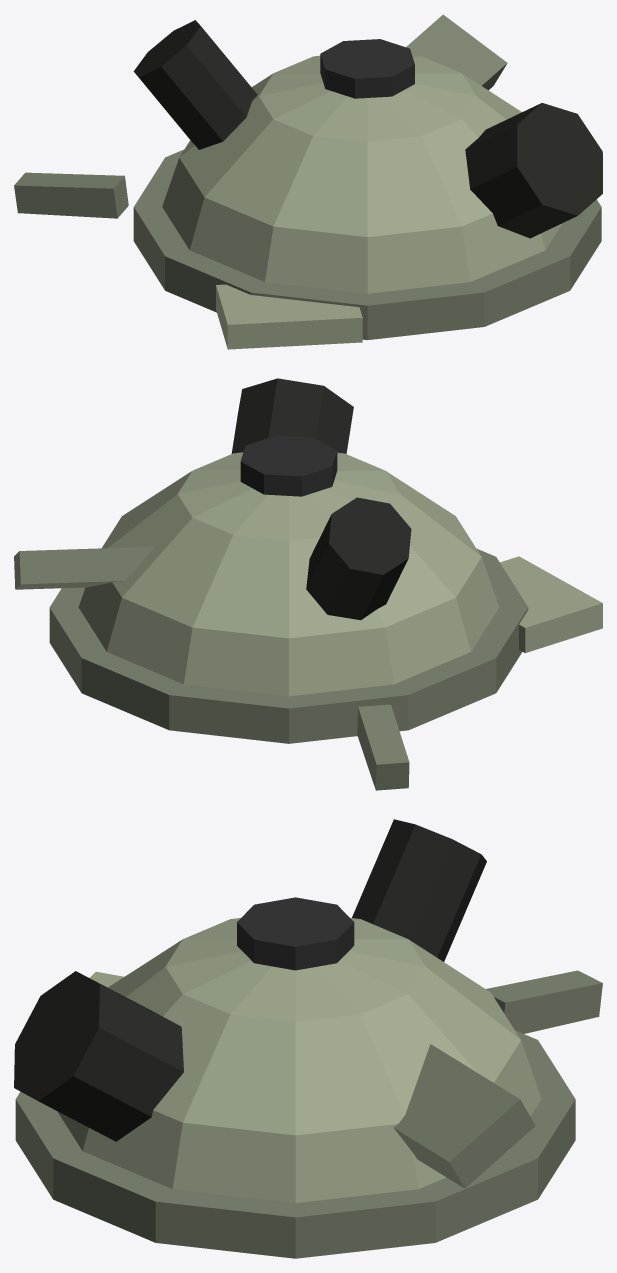
File: ancient_tunneler_husk_1.obj
3 views of the same model, one above another, from view 1: azimuth 30°, elevation 25°; view 2: azimuth 150°, elevation 25°; view 3: azimuth 270°, elevation 25° (orthographic). The views are drawn at different scales.
Visible parts, largest first — view 1: ancient_tunneler_husk_1; view 2: ancient_tunneler_husk_1; view 3: ancient_tunneler_husk_1.
Boxes of the visible parts, <box> form: ancient_tunneler_husk_1: <box>14,14,602,349</box>; ancient_tunneler_husk_1: <box>14,378,602,790</box>; ancient_tunneler_husk_1: <box>14,819,602,1258</box>.
Size of the model in its own units: 1.87 by 0.8403 by 1.81.
